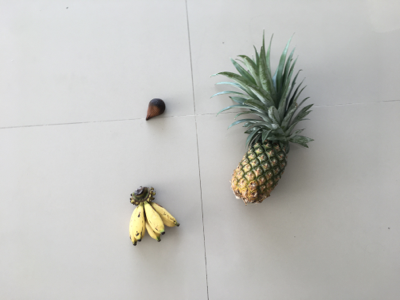banana: (129, 186, 181, 246)
pineapple: (215, 30, 313, 203)
snake fruit: (146, 98, 166, 124)
